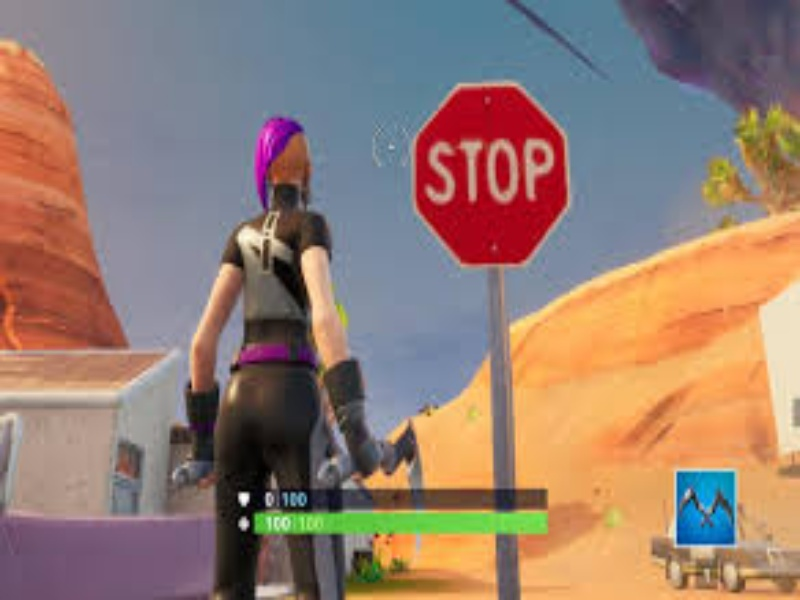Stop_Sign: (411, 79, 571, 268)
